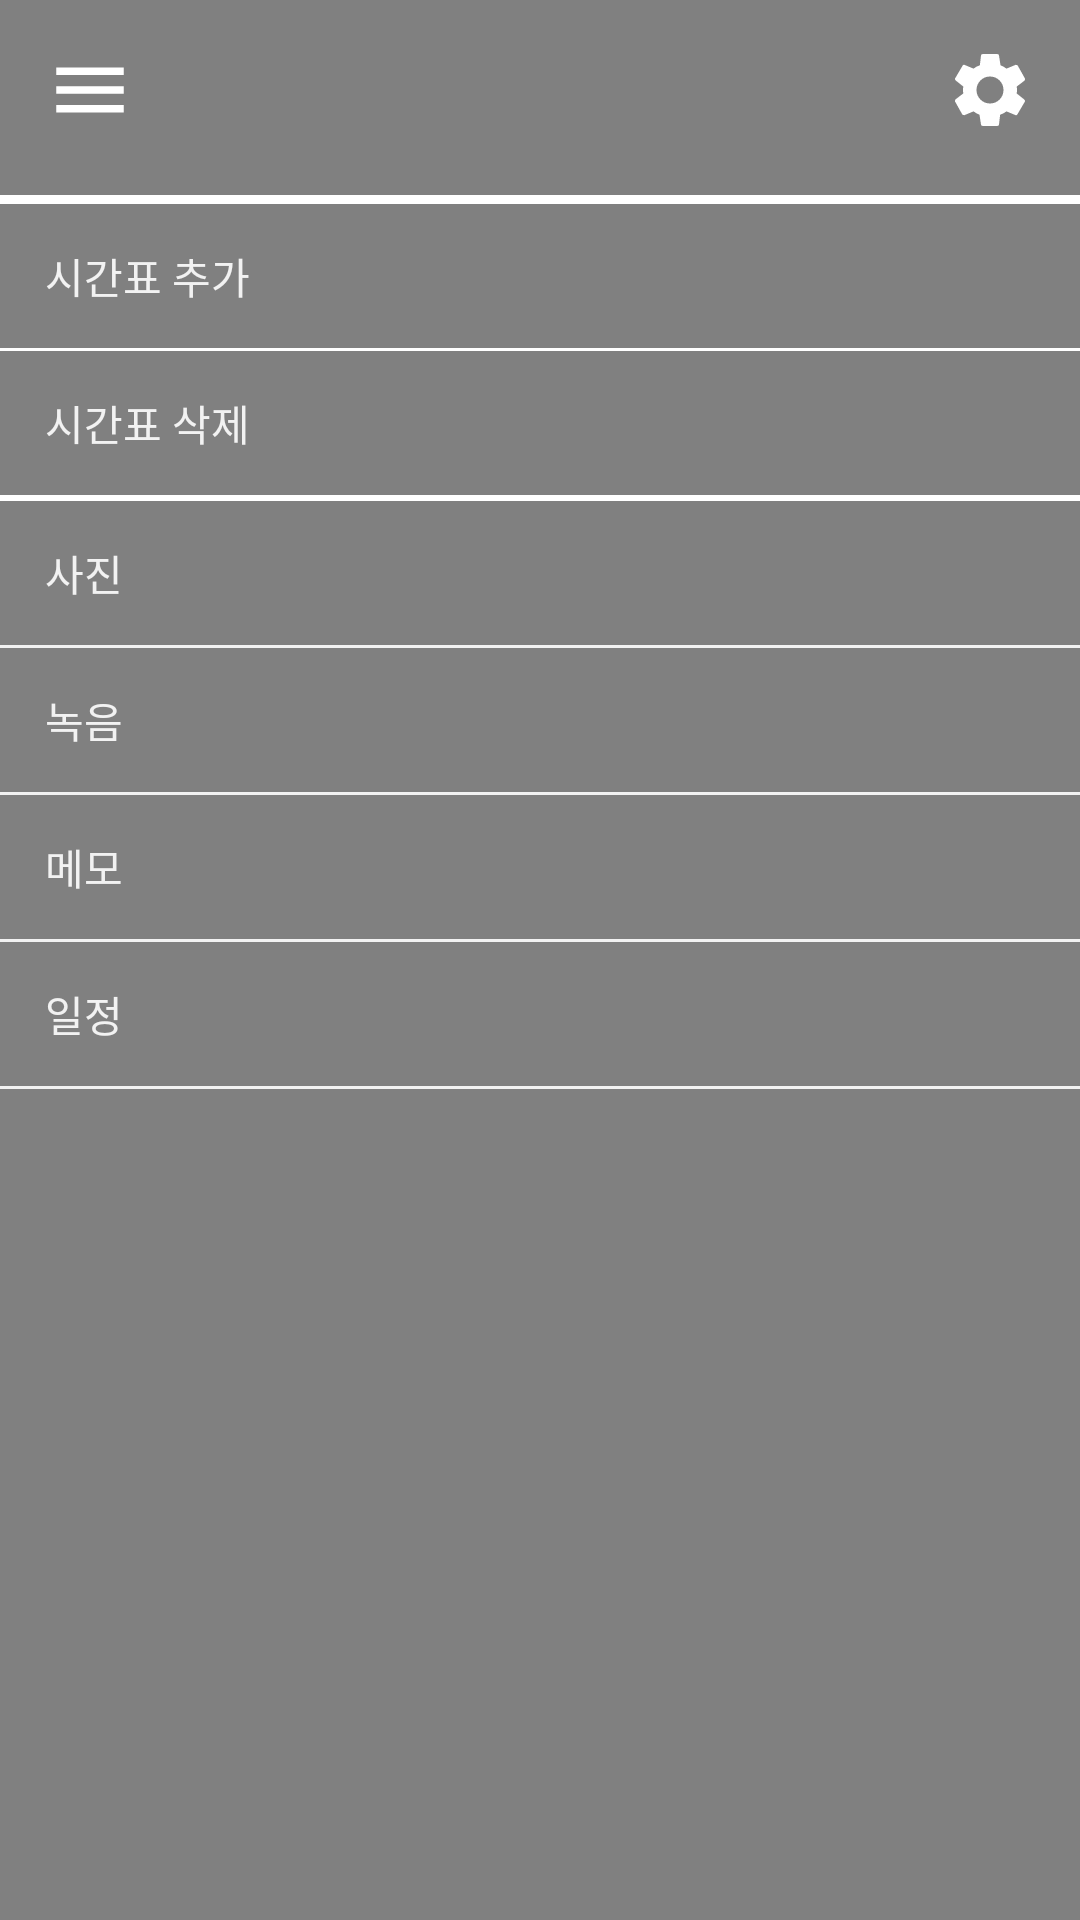

Locate icon controls on the screen. Image size 1080x1920, boxes as (x1,y1,x2,y2).
set: (955,54,1025,126)
